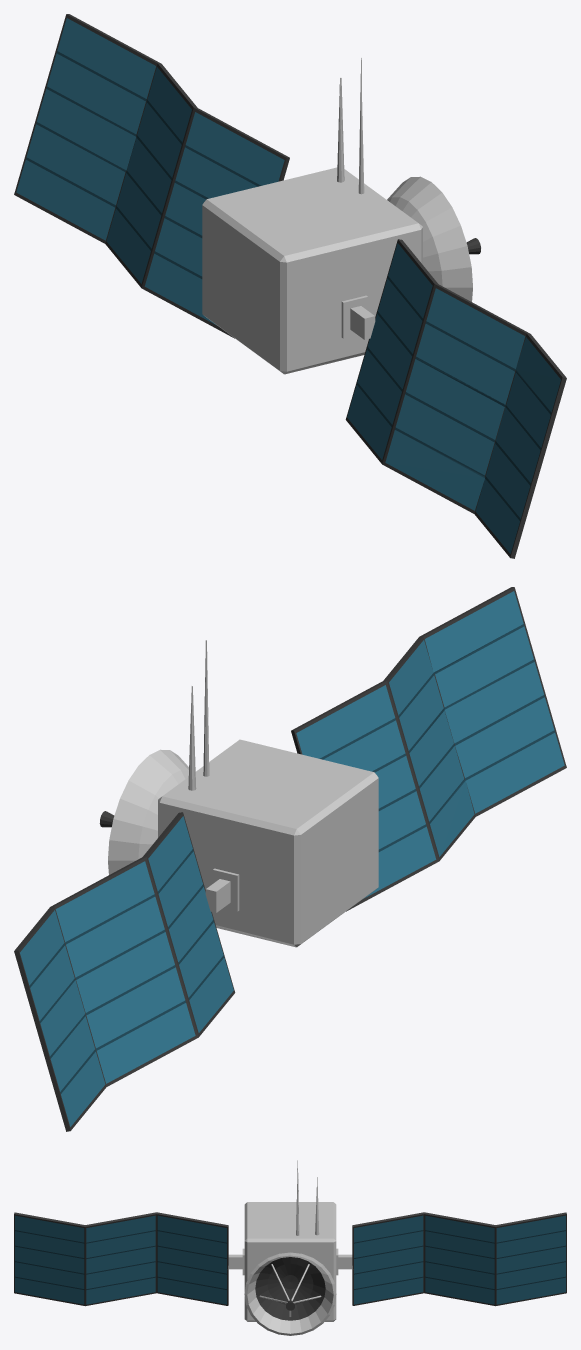
File: 1236 Satellite.obj
The picture shows the model from 3 angles, top to bottom: view 1: azimuth 30°, elevation 25°; view 2: azimuth 150°, elevation 25°; view 3: azimuth 270°, elevation 25°; orthographic projection. The views are drawn at different scales.
Parts seen in each view (by area): view 1: Satellite; view 2: Satellite; view 3: Satellite.
Boxes of the visible parts, x1=… form: Satellite: x1=14, y1=14, x2=566, y2=558; Satellite: x1=14, y1=587, x2=566, y2=1131; Satellite: x1=14, y1=1160, x2=566, y2=1335.
Size of the model in its own units: 44.33 by 53.67 by 162.
1 material, 1 textured.
